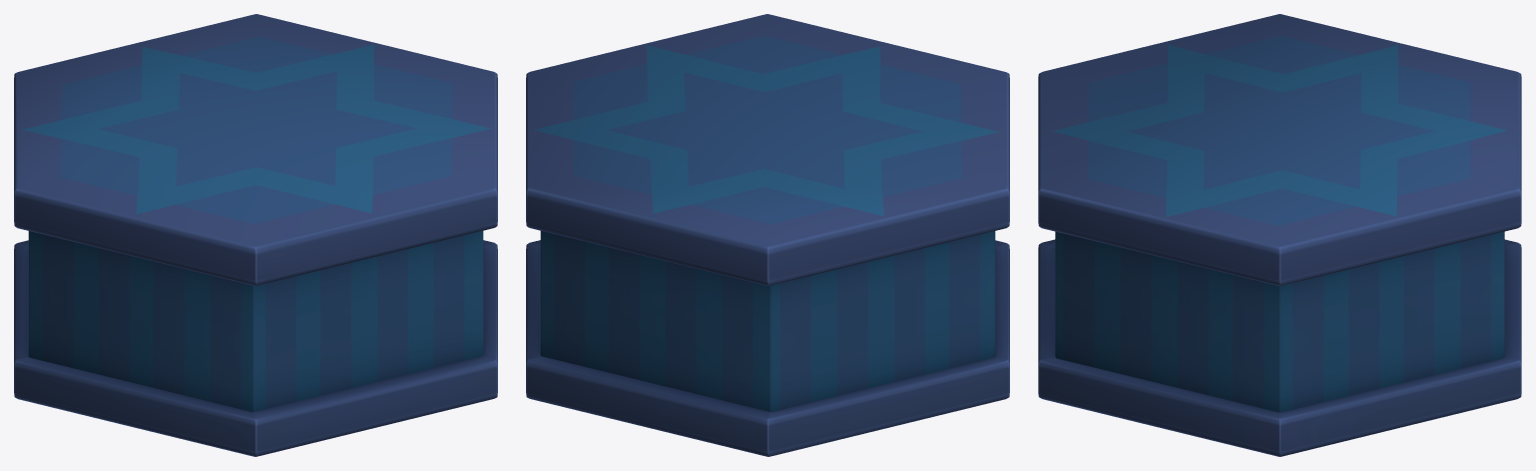
Rendered from SM_UpDownFoothold03.fbx.
3 renders of one model, left to right at view 1: azimuth 30°, elevation 25°; view 2: azimuth 150°, elevation 25°; view 3: azimuth 270°, elevation 25°, orthographic.
Visible parts, largest first — view 1: SM_UpDownFoothold03; view 2: SM_UpDownFoothold03; view 3: SM_UpDownFoothold03.
Boxes of the visible parts, bbox=[...] form: SM_UpDownFoothold03: bbox=[14, 14, 497, 456]; SM_UpDownFoothold03: bbox=[526, 14, 1009, 456]; SM_UpDownFoothold03: bbox=[1038, 14, 1521, 456].
Size of the model in its own units: 240 by 100 by 208.
